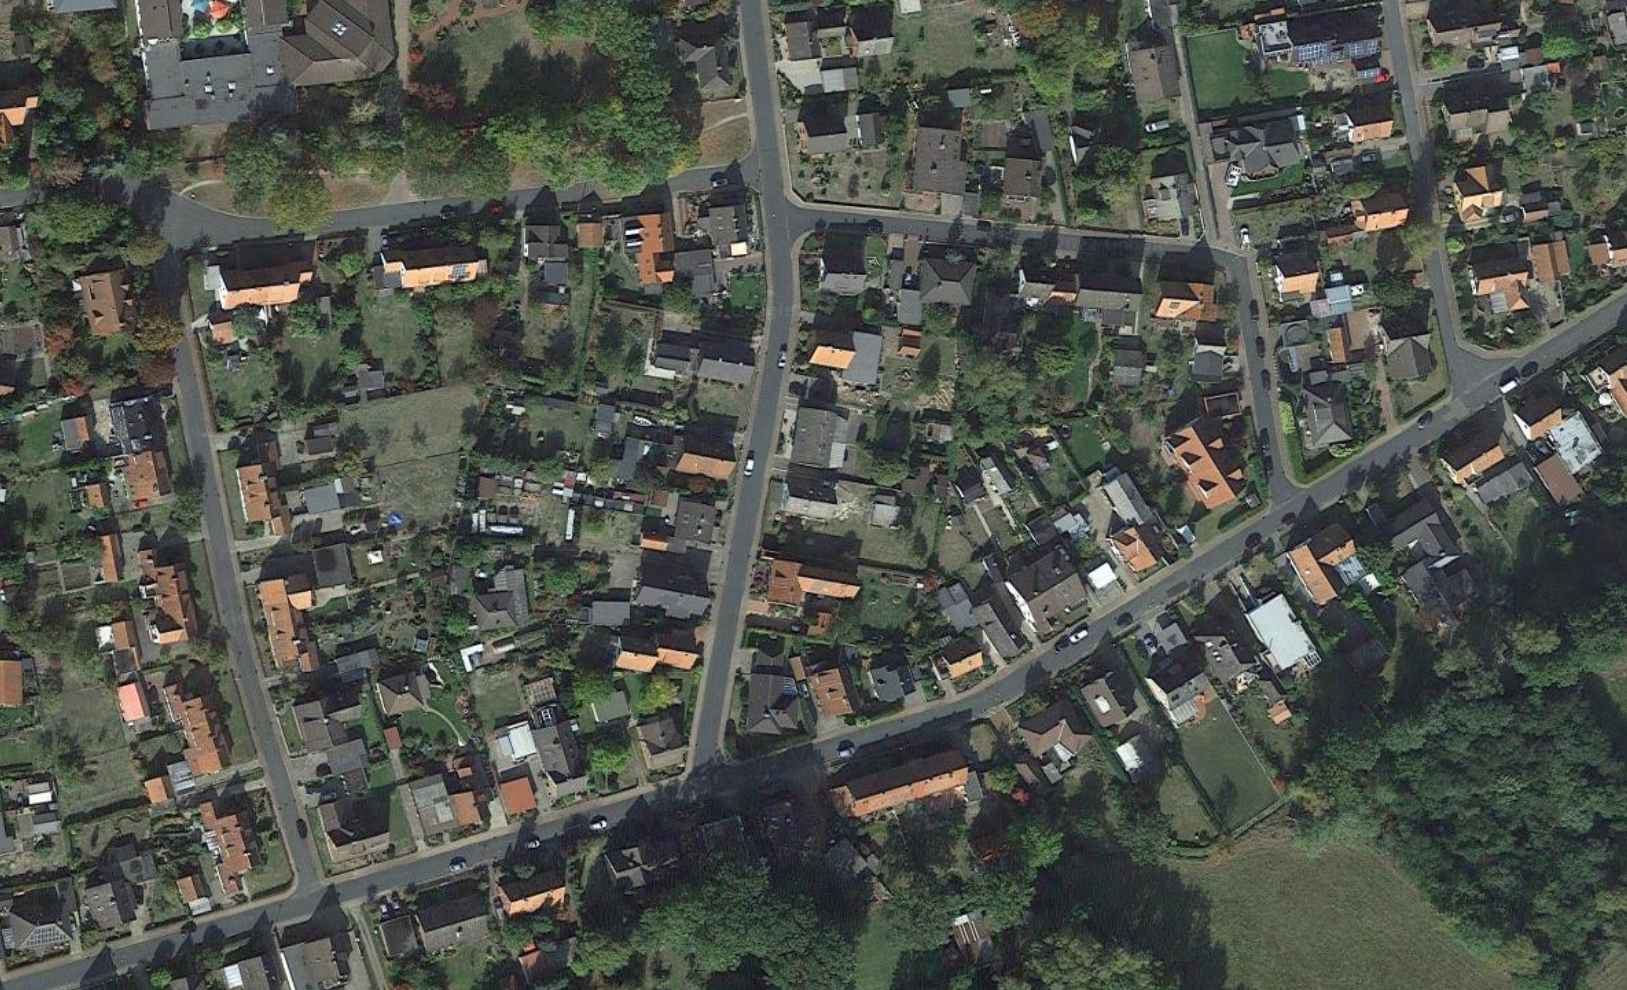car: (1500, 378, 1521, 395), (1145, 120, 1169, 132), (1535, 440, 1551, 457), (1417, 414, 1433, 430), (1070, 629, 1089, 643), (1260, 435, 1271, 454), (837, 747, 855, 759), (296, 822, 308, 840), (744, 457, 754, 476), (589, 819, 607, 831), (320, 791, 337, 803), (379, 903, 389, 921), (524, 839, 540, 851), (131, 498, 148, 510), (449, 861, 466, 871), (390, 897, 401, 914), (1249, 304, 1260, 322), (777, 350, 787, 368), (1266, 458, 1274, 479), (1262, 373, 1271, 390), (1372, 73, 1390, 82), (1241, 228, 1250, 245), (712, 178, 728, 188), (1257, 340, 1266, 358), (904, 274, 911, 285)
